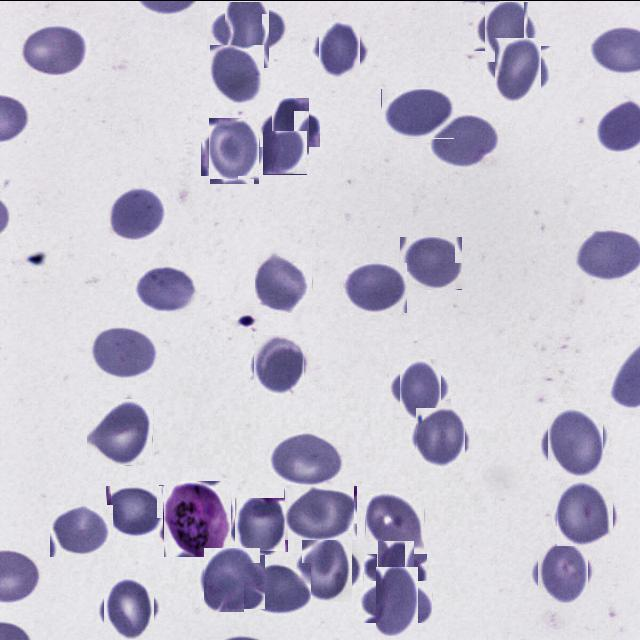difficult: (161, 482, 233, 554)
red blood cell: (88, 398, 154, 465), (284, 485, 357, 540), (88, 326, 162, 380), (268, 432, 346, 483), (544, 409, 606, 471), (554, 482, 616, 544), (215, 0, 278, 61), (428, 112, 499, 165), (202, 549, 263, 610), (381, 88, 454, 138), (20, 24, 90, 76), (255, 250, 312, 312), (244, 562, 311, 614), (365, 490, 424, 549), (206, 120, 264, 180), (106, 186, 167, 242), (339, 262, 407, 312), (298, 538, 356, 596), (399, 236, 462, 289), (210, 44, 264, 105), (50, 504, 113, 556), (534, 542, 592, 598), (101, 581, 157, 637), (369, 573, 425, 629), (250, 337, 306, 392), (479, 0, 534, 56), (412, 409, 468, 464), (490, 41, 546, 96), (133, 264, 197, 312), (106, 485, 163, 537), (232, 498, 286, 552), (394, 362, 446, 414), (370, 546, 421, 596), (266, 102, 314, 152), (316, 24, 364, 72), (263, 130, 307, 174)
